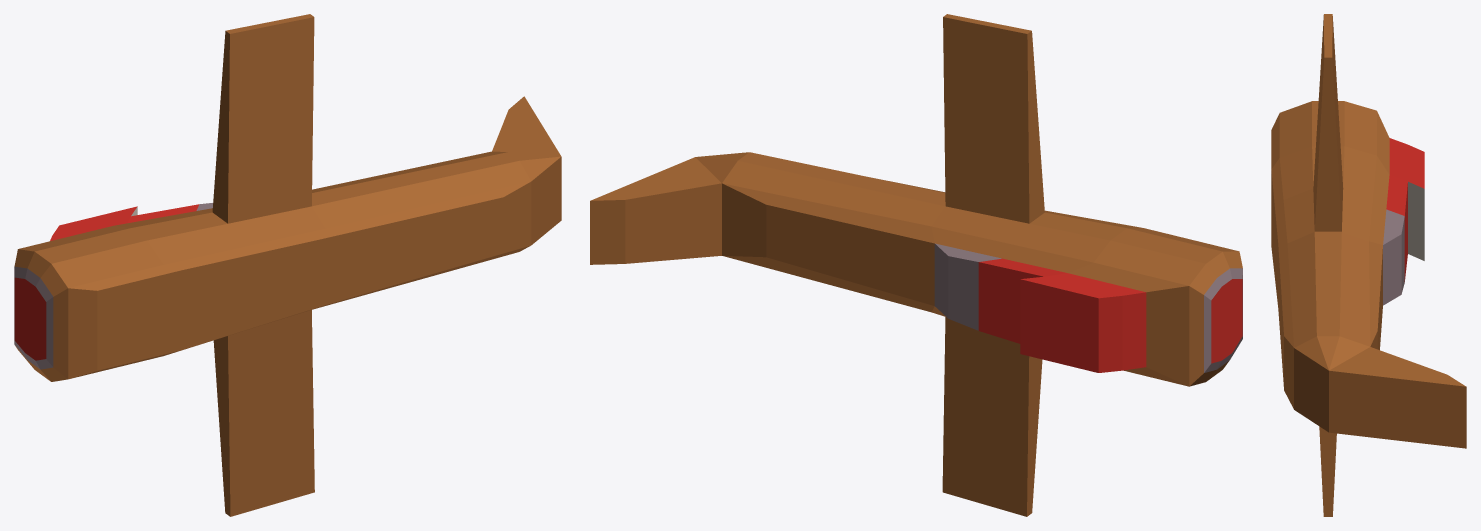
Rendered from PFAvion1FBX.fbx.
3 renders of one model, left to right at view 1: azimuth 30°, elevation 25°; view 2: azimuth 150°, elevation 25°; view 3: azimuth 270°, elevation 25°, orthographic. The views are drawn at different scales.
Visible parts, largest first — view 1: Cube.001; view 2: Cube.001; view 3: Cube.001.
Boxes of the visible parts, box(x1,y1,x2,y2) form: Cube.001: box(14, 14, 561, 516); Cube.001: box(590, 14, 1242, 516); Cube.001: box(1271, 14, 1466, 516).
Size of the model in its own units: 1298 by 1059 by 401.
